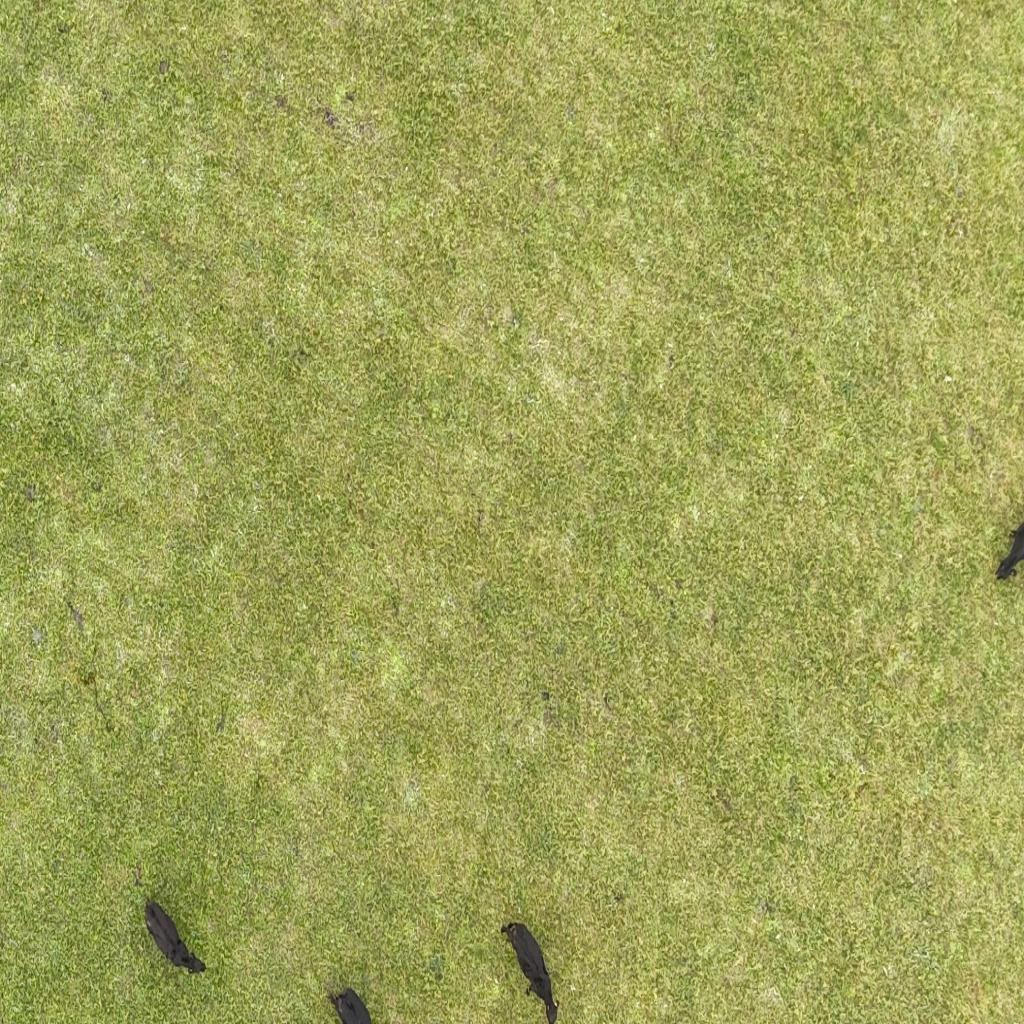cow: (498, 915, 561, 1024), (141, 896, 210, 981), (994, 512, 1024, 588), (328, 986, 375, 1024)
